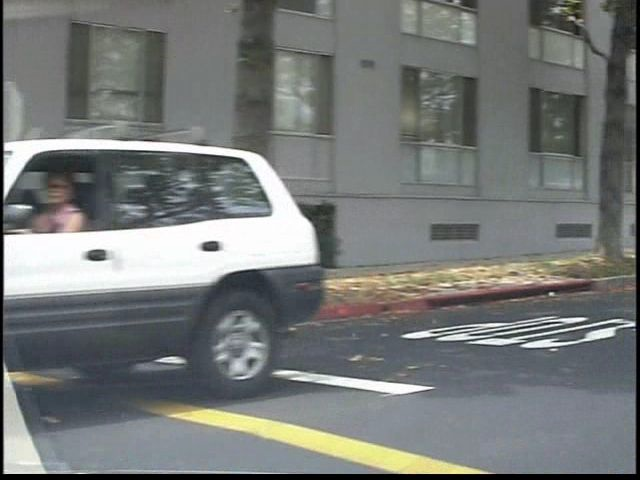person: (57, 162, 139, 412)
